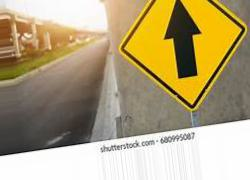forward: (119, 1, 247, 111)
